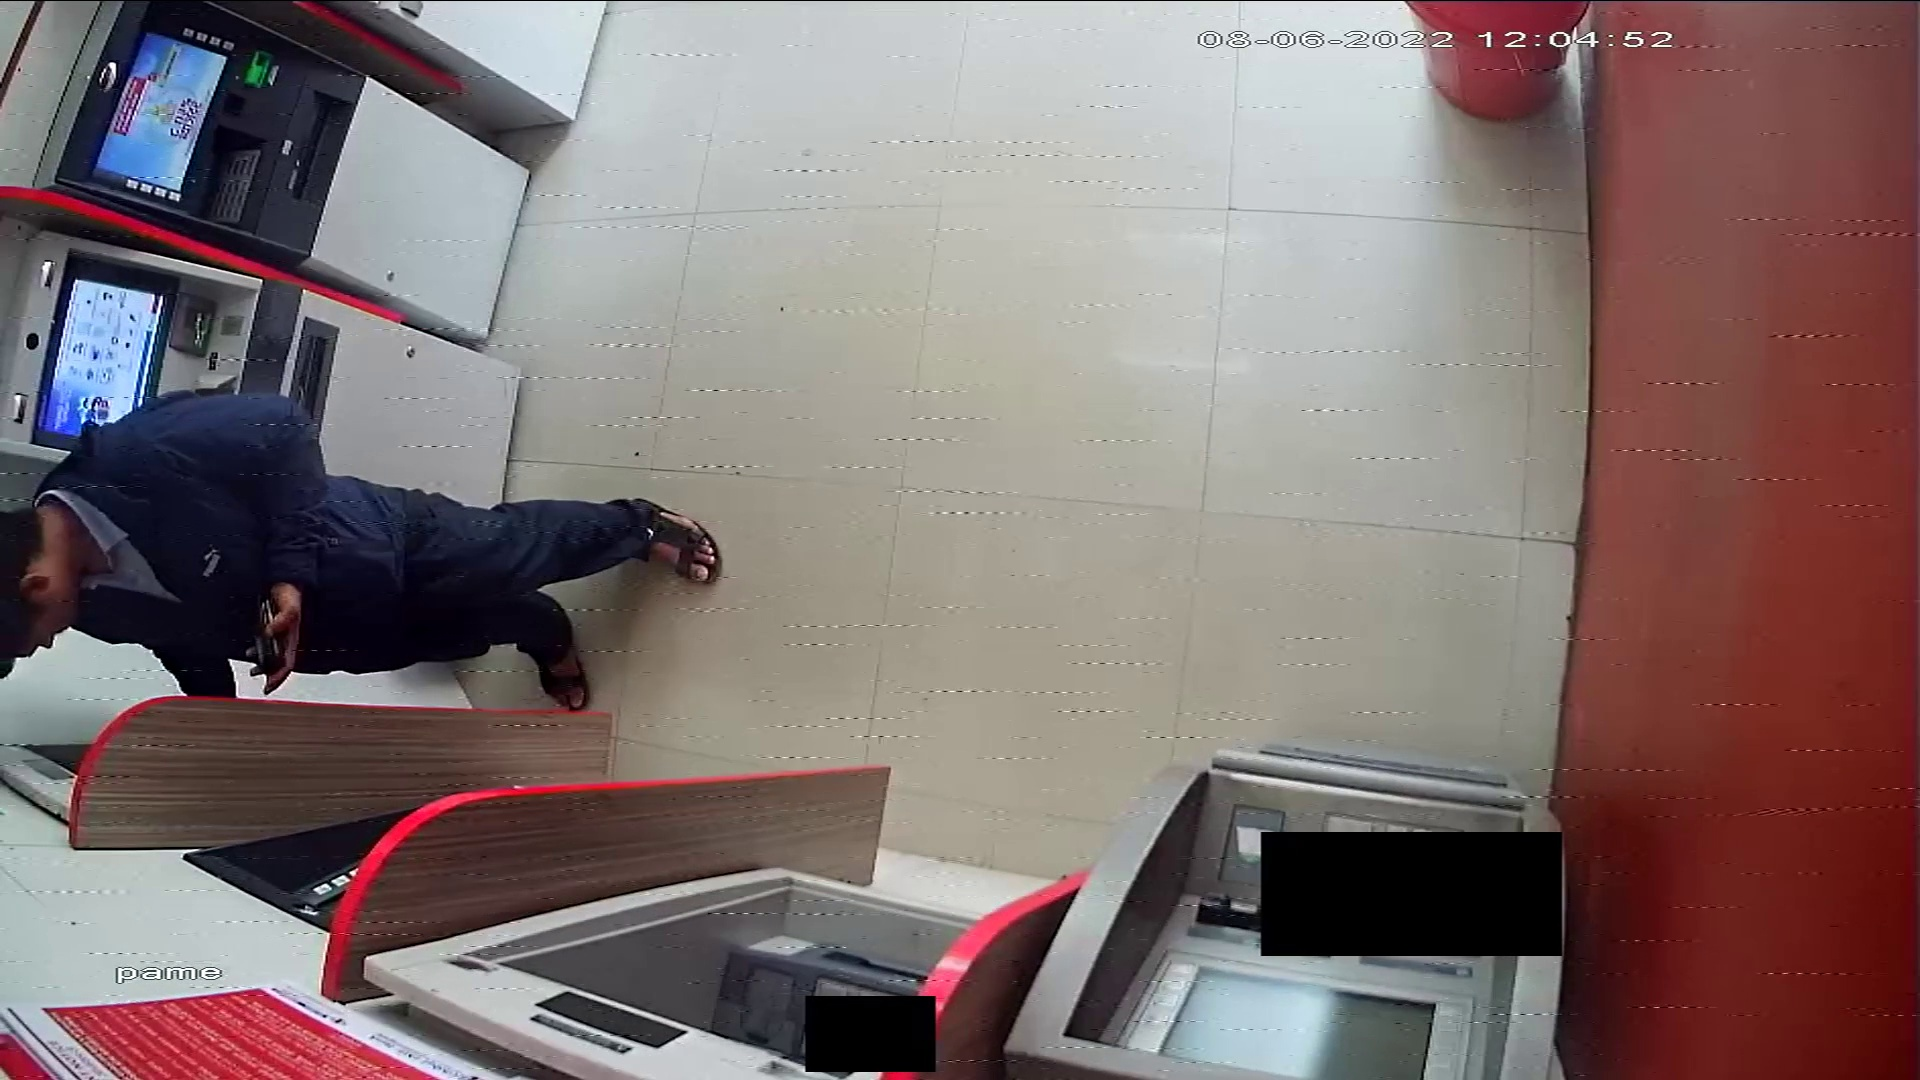person: (1, 392, 723, 709)
